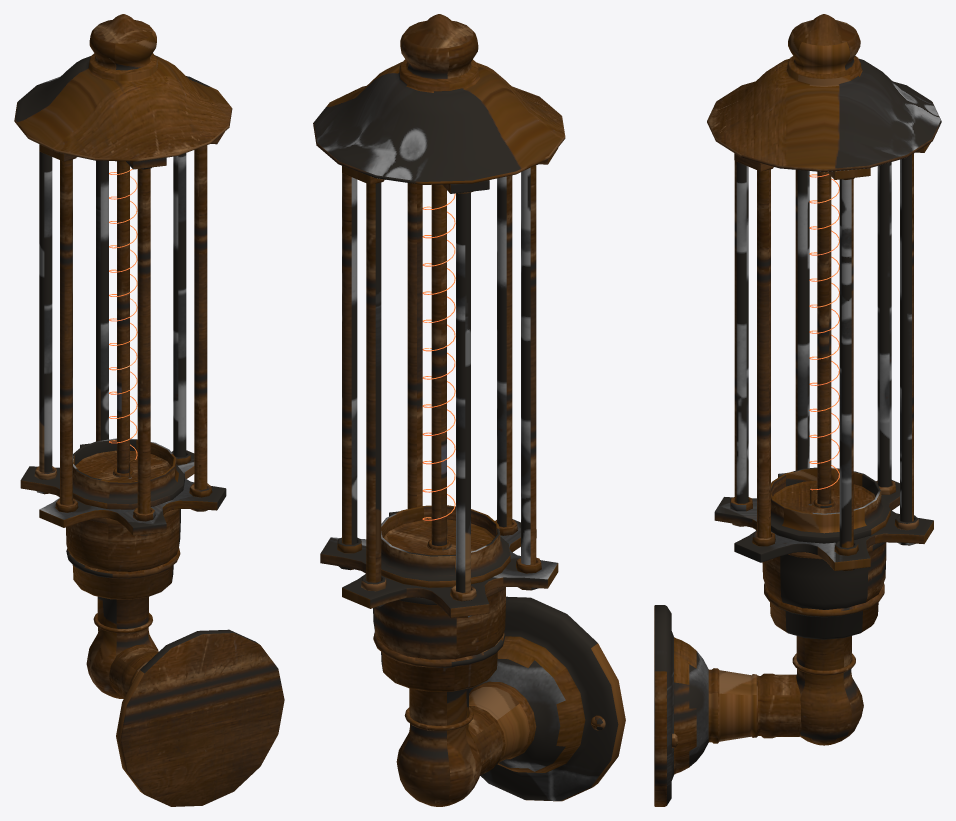
3 renders of one model, left to right at view 1: azimuth 30°, elevation 25°; view 2: azimuth 150°, elevation 25°; view 3: azimuth 270°, elevation 25°, orthographic. The views are drawn at different scales.
Visible parts, largest first — view 1: Lamp; view 2: Lamp; view 3: Lamp.
Part boxes in pixels (x1,y1,x2,y2): Lamp: (14,14,284,806); Lamp: (313,14,625,806); Lamp: (654,14,941,806).
Size of the model in its own units: 11.18 by 41.15 by 13.69.
